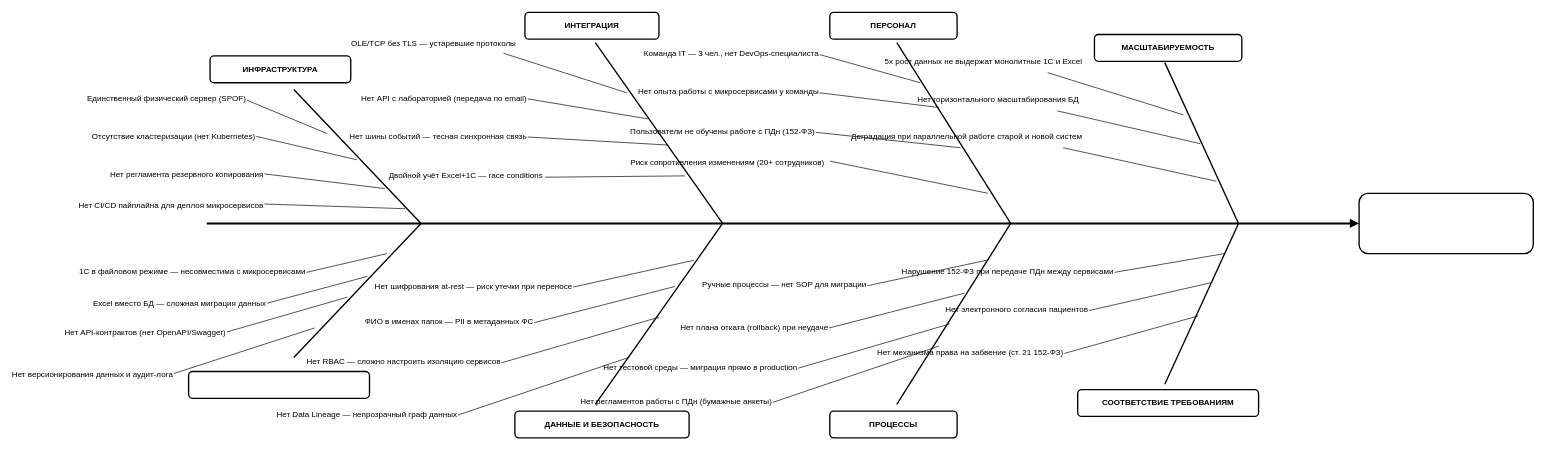
The diagram is 1545 pixels wide and 450 high, and some of its shapes have lost their labels. Each missing label, with the centre of its shape:
"Деградация при миграции на микросервисы" belongs at point (1446, 223).
"ПРОГРАММНОЕ ОБЕСПЕЧЕНИЕ" belongs at point (279, 385).
